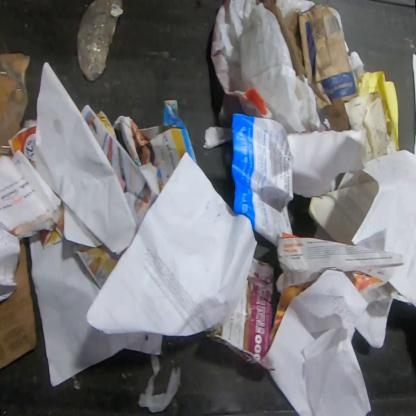cardboard: (204, 258, 275, 366), (298, 3, 358, 110), (137, 99, 198, 195), (0, 237, 38, 371)
rigid_plastic: (76, 0, 125, 83)
soft_plastic: (209, 0, 328, 135), (0, 52, 31, 156), (344, 40, 366, 79), (274, 0, 316, 18), (327, 6, 344, 32)
